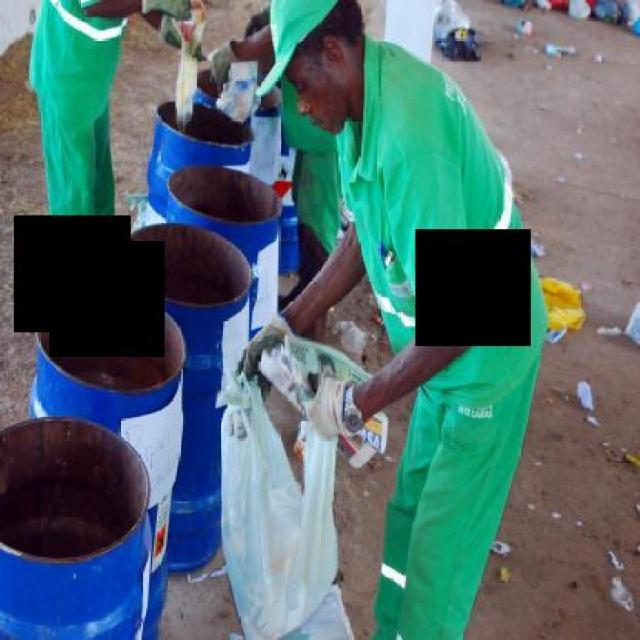plastic bag: (218, 368, 357, 638), (214, 55, 261, 140), (546, 0, 640, 40), (534, 271, 586, 326), (171, 39, 203, 126), (328, 315, 374, 357), (429, 0, 469, 42), (622, 300, 638, 351)
